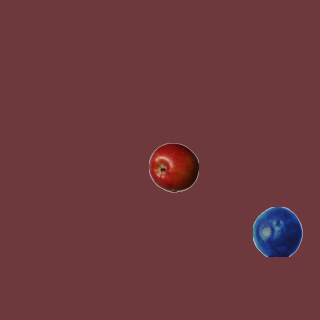Apple Braeburn: (148, 142, 198, 192)
Huckleberry: (252, 206, 302, 256)
